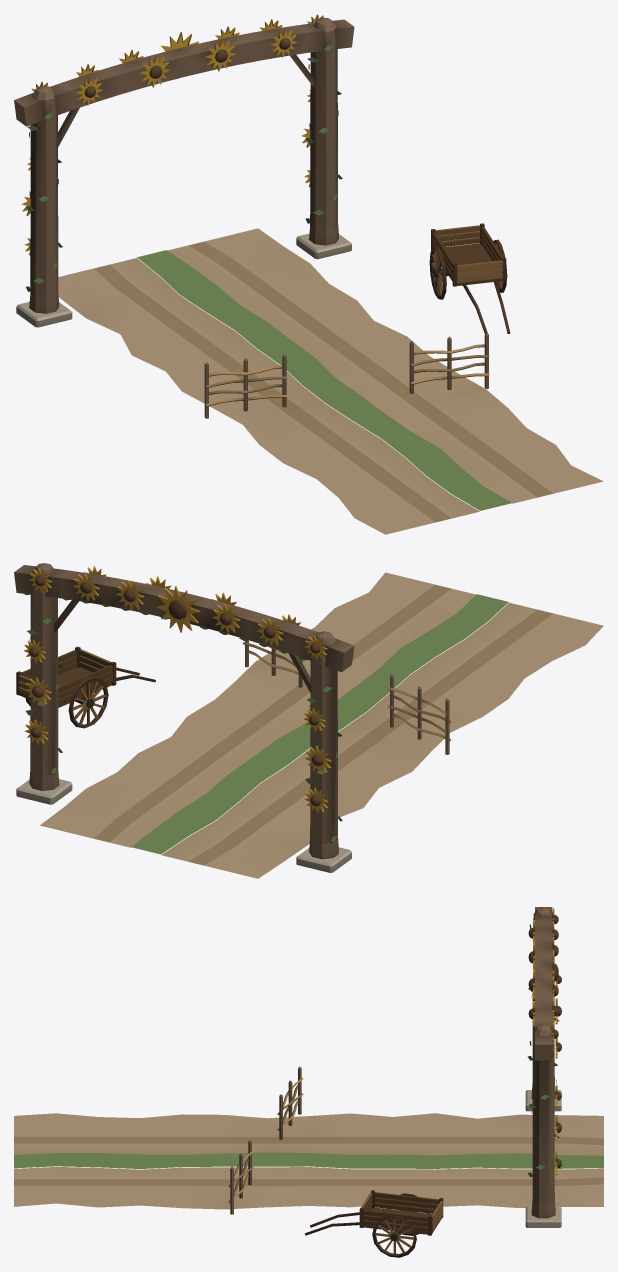
The model's file is pav_farm_arch.glb.
3 views of the same model, one above another, from view 1: azimuth 30°, elevation 25°; view 2: azimuth 150°, elevation 25°; view 3: azimuth 270°, elevation 25° (orthographic). The views are drawn at different scales.
Parts seen in each view (by area): view 1: static_farm_arch; view 2: static_farm_arch; view 3: static_farm_arch.
Boxes of the visible parts, x1,y1,x2,y2 form: static_farm_arch: (14, 14, 603, 534); static_farm_arch: (14, 563, 603, 878); static_farm_arch: (14, 907, 603, 1257).
Size of the model in its own units: 9.14 by 5.4 by 13.7.
